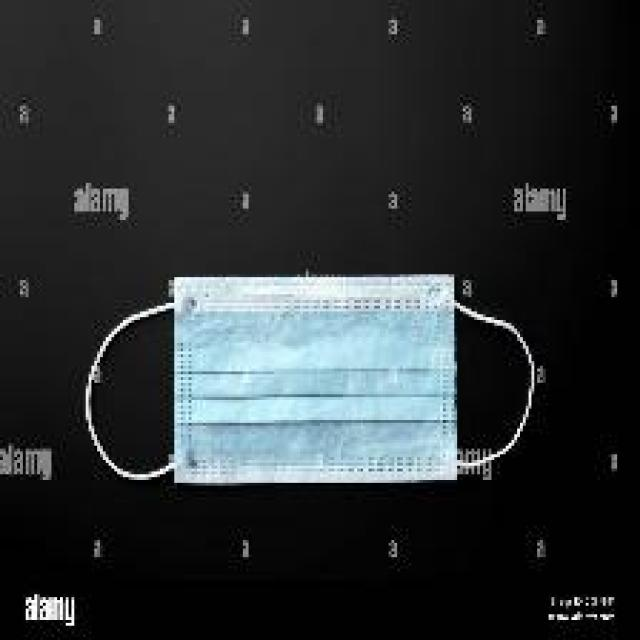Mask: (74, 261, 543, 504)
